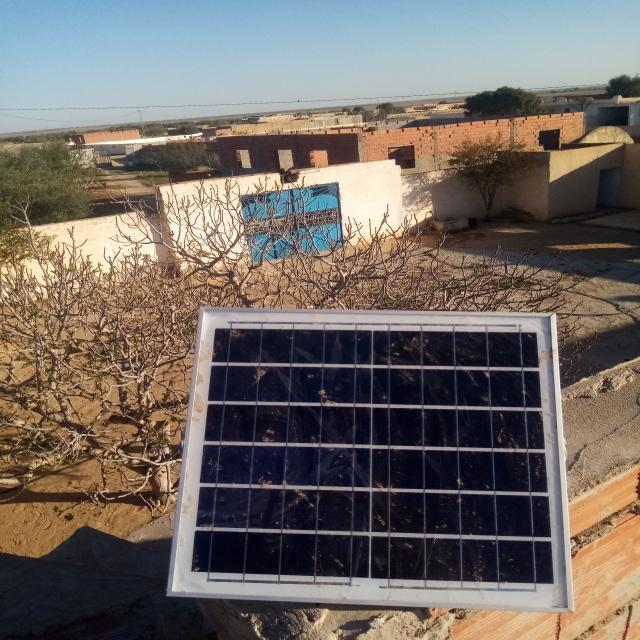faulty: (170, 311, 570, 609)
